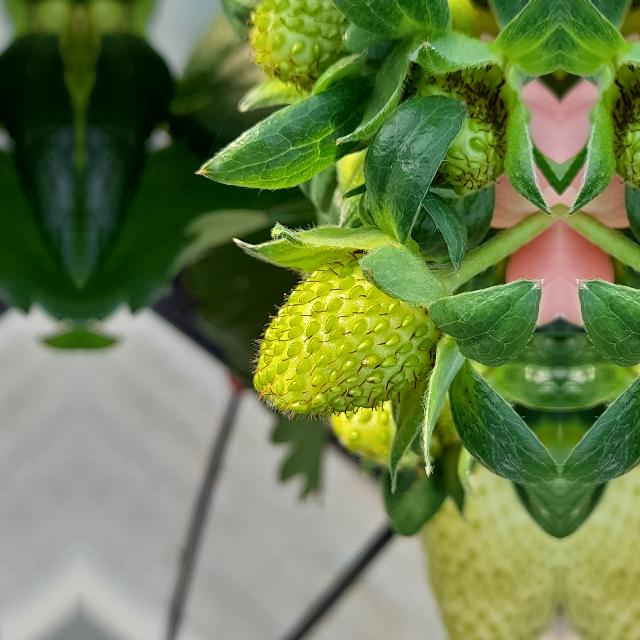Health_25: (247, 255, 439, 420), (247, 0, 355, 88)
